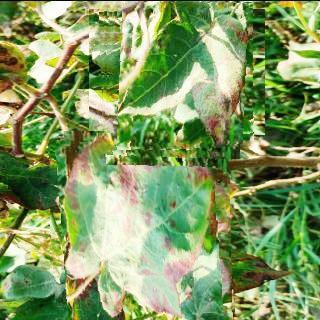blight: (50, 138, 233, 320), (99, 0, 253, 149)
